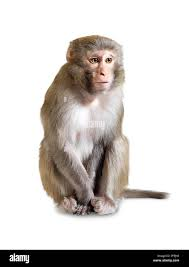monkey: (32, 11, 177, 236)
